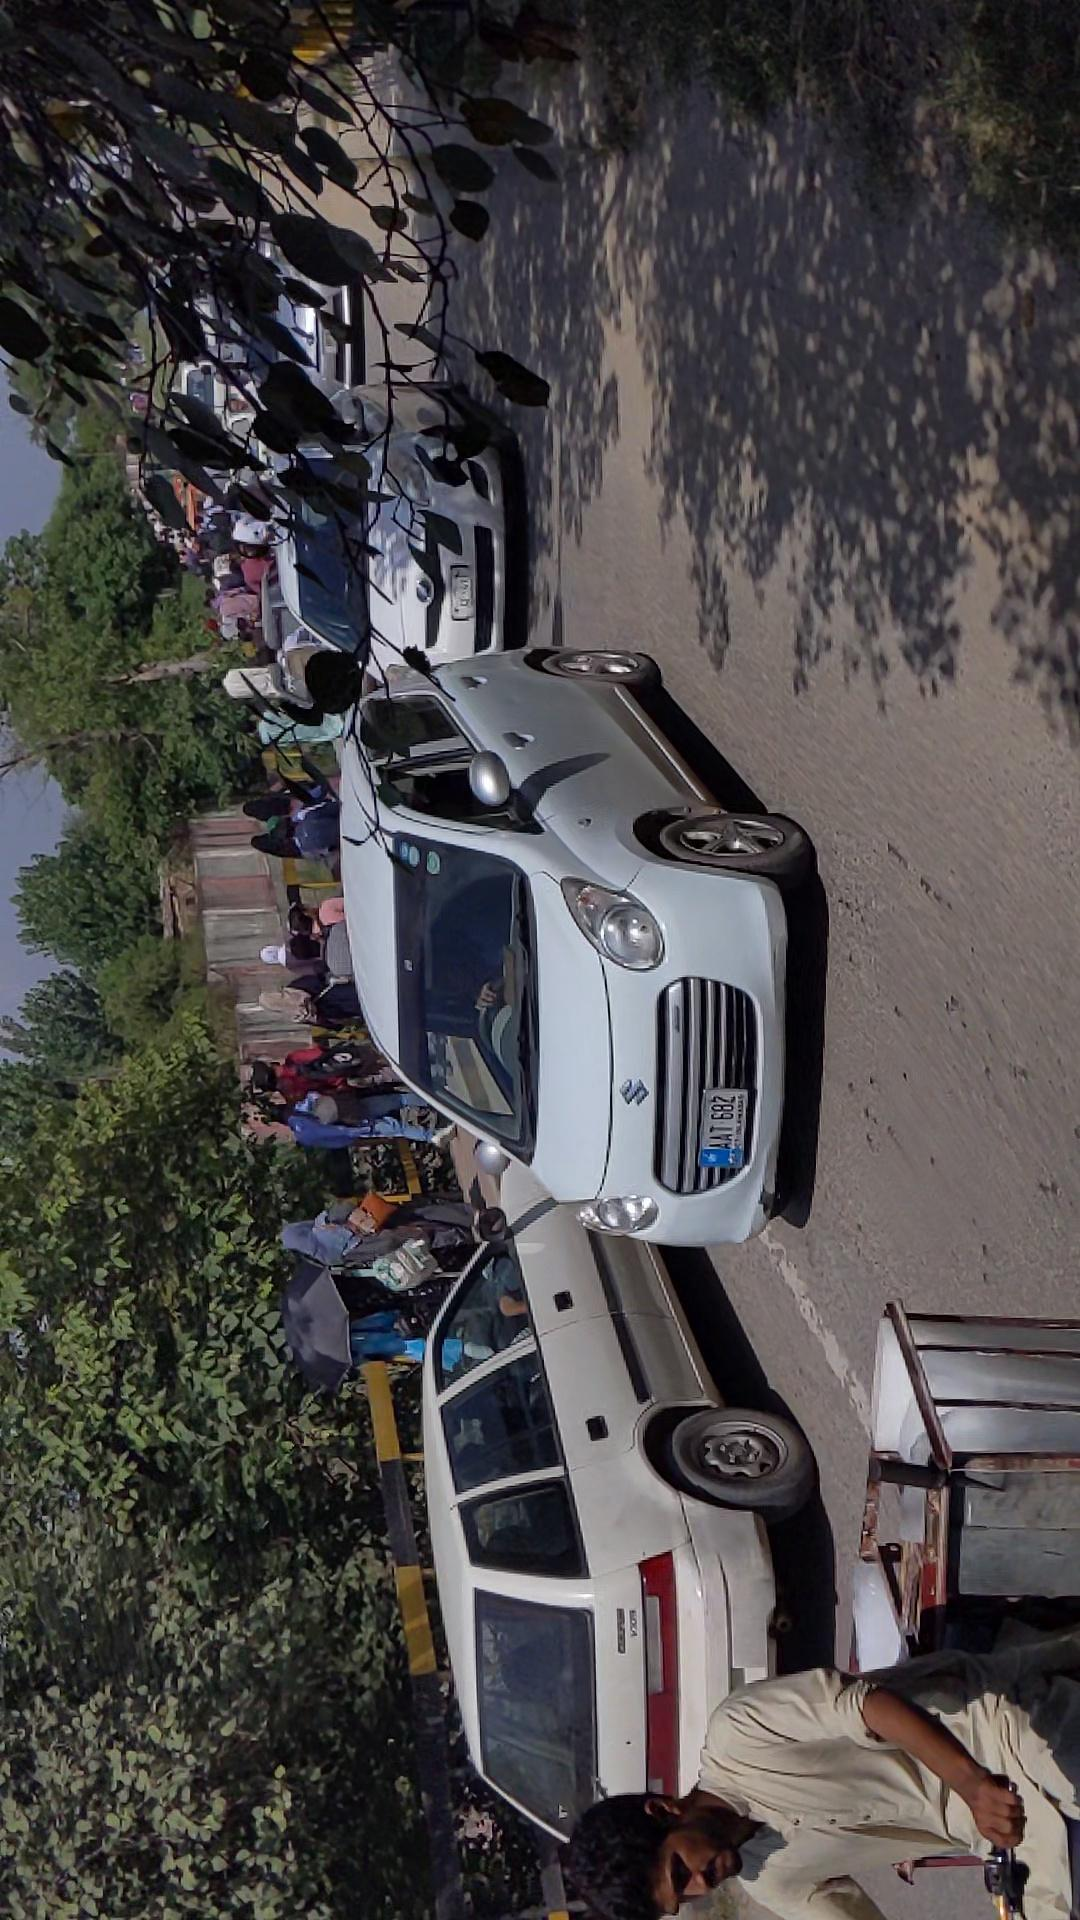windshield: (421, 694, 621, 960)
